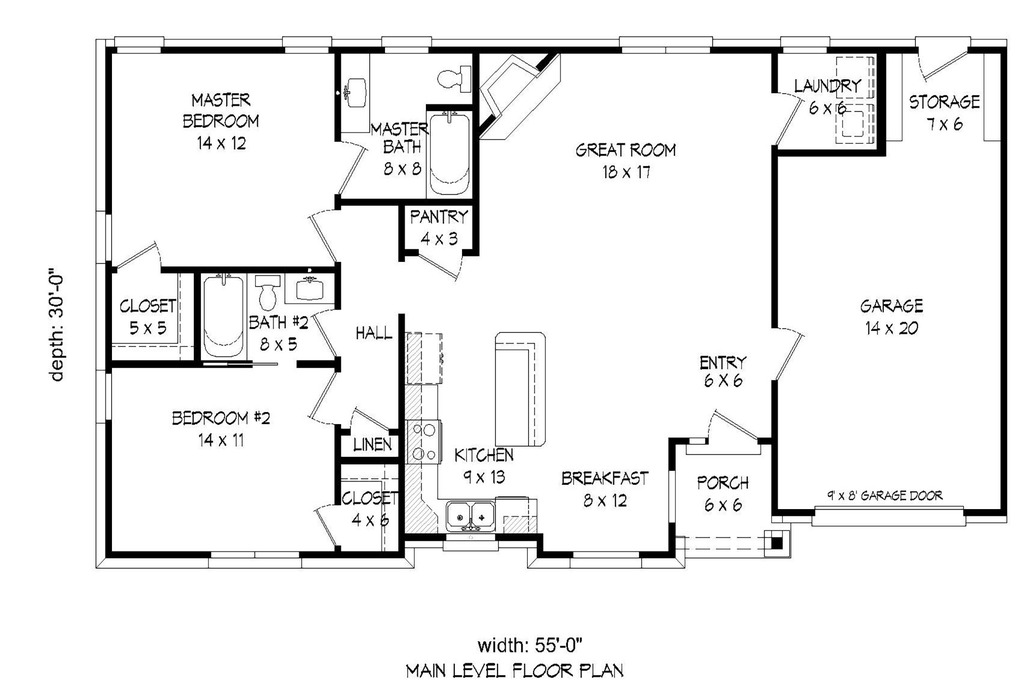door: (411, 242, 473, 288), (694, 408, 759, 451), (767, 82, 804, 153), (303, 206, 344, 269), (919, 33, 969, 84), (768, 324, 808, 382), (330, 136, 363, 201), (309, 499, 351, 549), (311, 369, 343, 430), (310, 309, 347, 359), (115, 242, 171, 273), (345, 401, 394, 435)
kitchen_bar: (477, 330, 557, 452)
large_sink: (426, 49, 475, 99), (250, 270, 282, 314)
small_sink: (334, 52, 374, 126), (287, 277, 335, 302)
tub: (419, 103, 475, 196), (197, 269, 248, 364)
twin_sink: (440, 497, 496, 536)
window: (810, 506, 972, 529), (201, 545, 312, 573), (618, 29, 715, 58), (562, 536, 645, 568), (772, 29, 845, 64), (85, 200, 114, 270), (90, 362, 119, 430), (273, 31, 343, 56), (110, 32, 164, 56), (376, 34, 432, 56)
